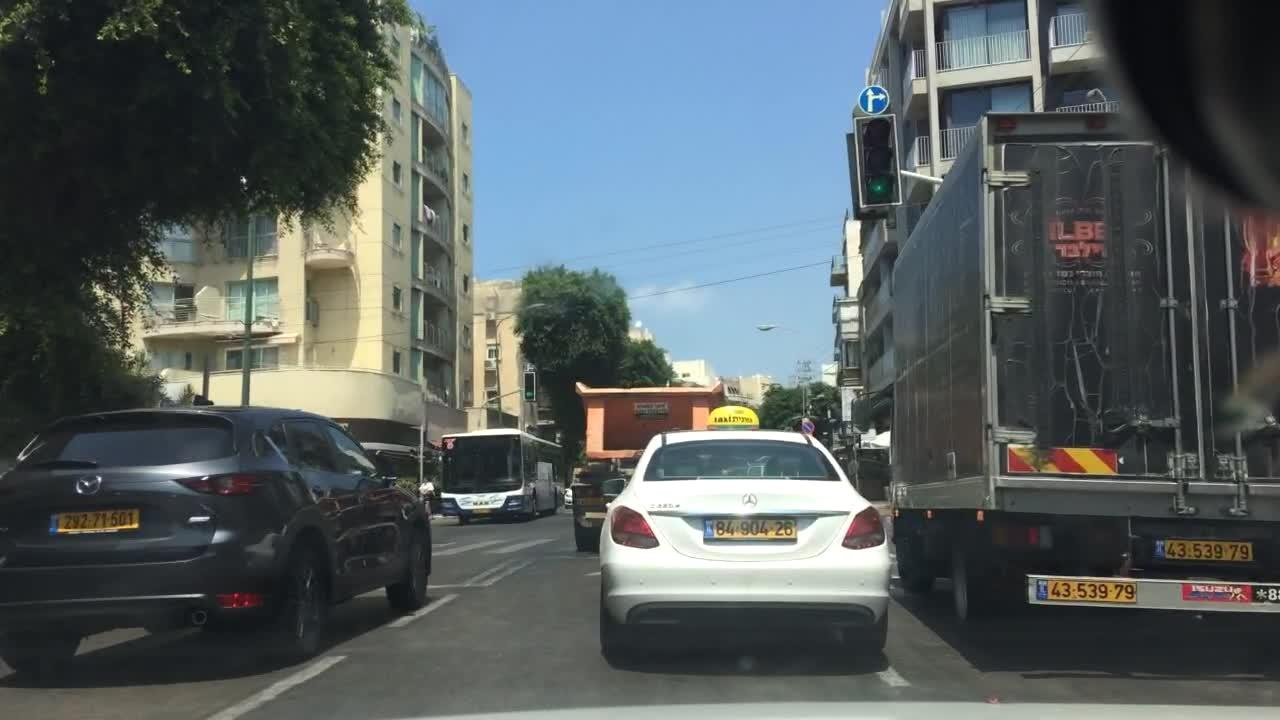Mazda: (61, 465, 120, 511)
Mercedes: (734, 489, 764, 513)
